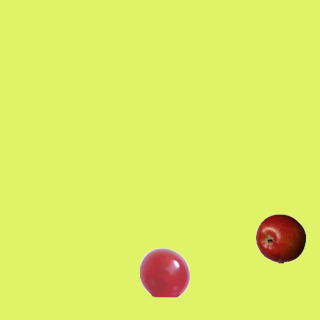Apple Braeburn: (255, 213, 305, 263)
Redcurrant: (139, 247, 189, 297)
